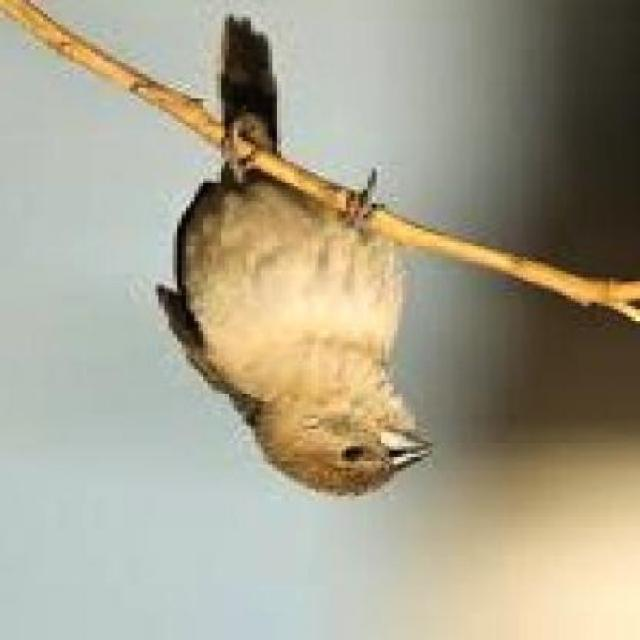Bird: (150, 6, 448, 505)
